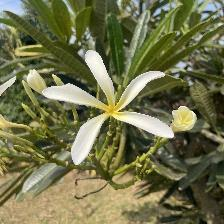champaka: (44, 48, 178, 168)
